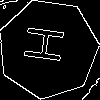H: (23, 24, 75, 66)
